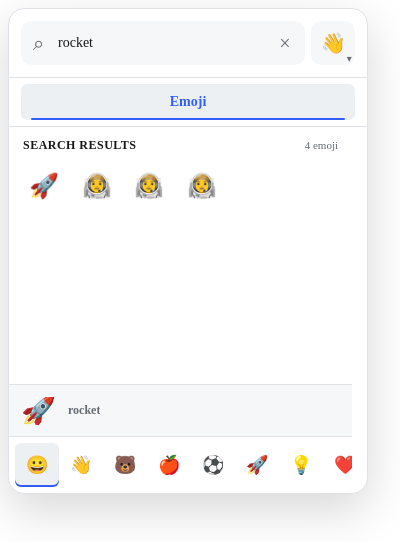
Test: MediaPicker › supports full size presets, custom dimensions, preview, and search clearing
Expected: the element with class "mp-preview" shows "rocket", [68,403,100,417]
Click the button named "Clear emoji search" at (285, 43), box [269,27,301,59]
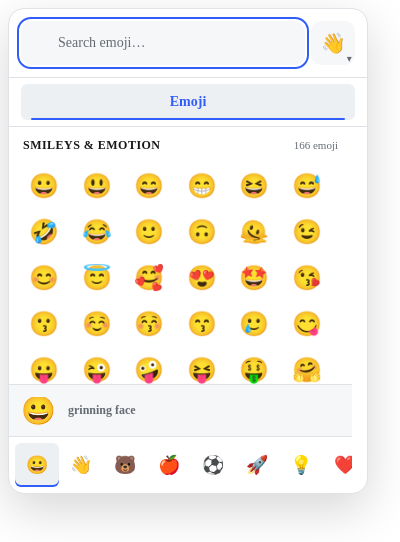
Result: the search field labelled "Search emoji" is empty at [21,21,305,65]
